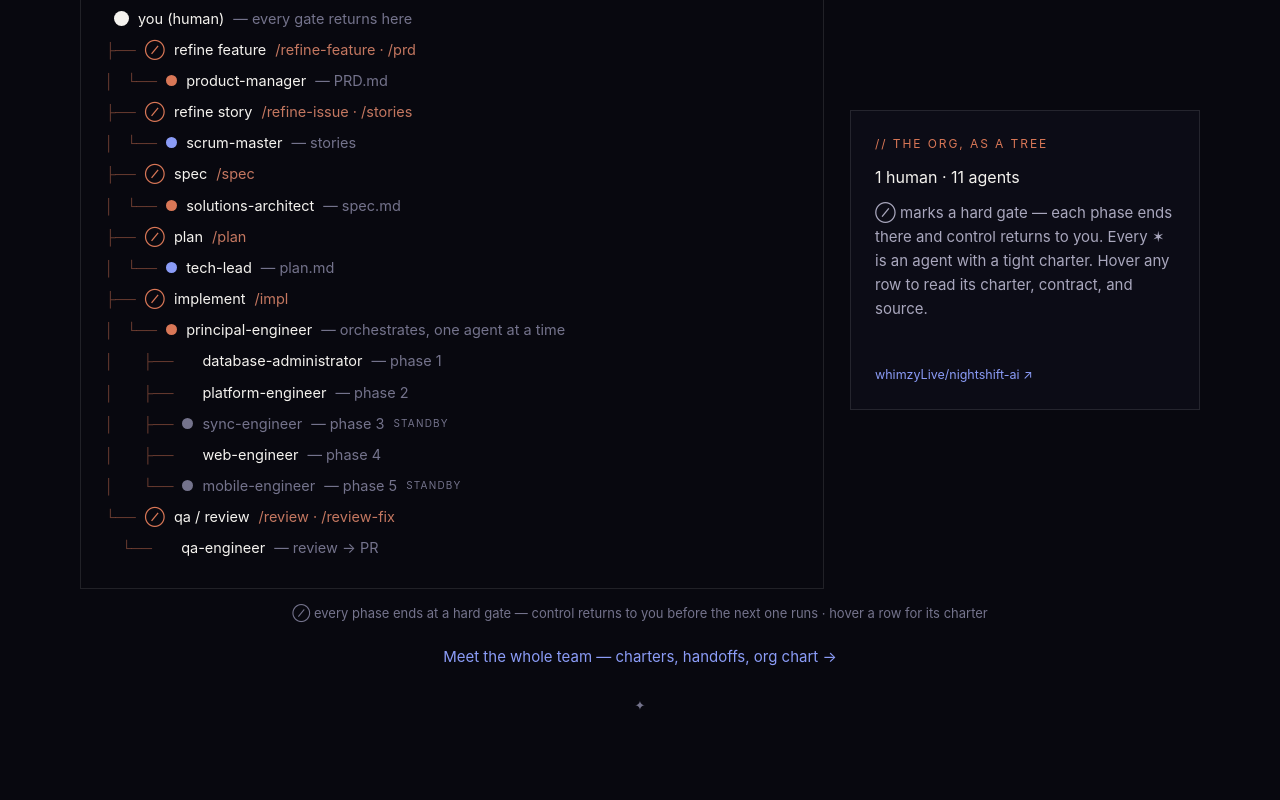
Test: TeamPreview › D2 draggable agent constellation › renders all 11 agents as star nodes once revealed
The image size is (1280, 800).
(page scrolled)
Focus the button named "Reveal the agent constellation" at (640, 706), box x1=630 y1=692 x2=649 y2=720
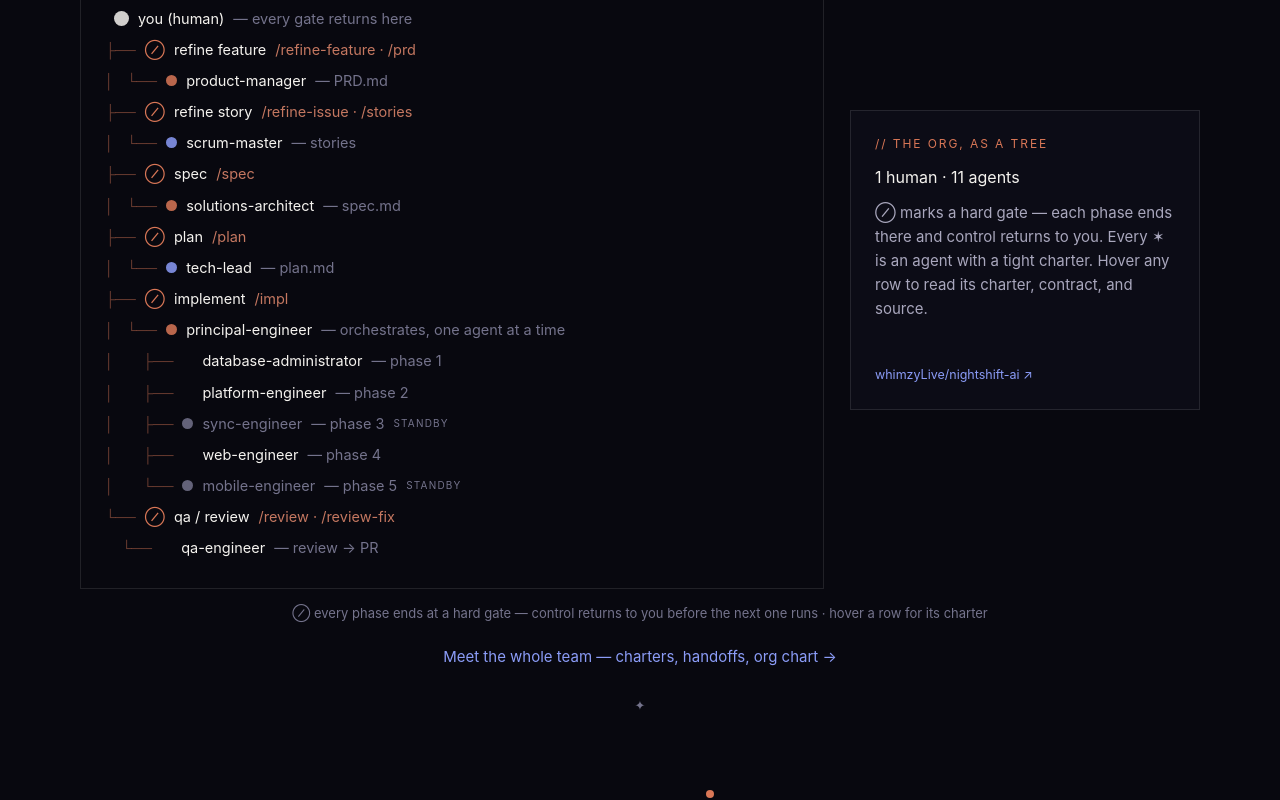
Expected: the number of elements with test id "constellation-star" is 11
